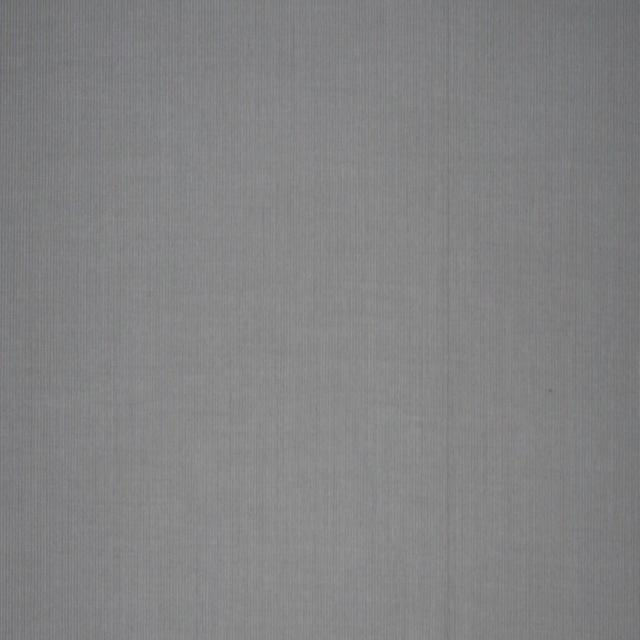dirty: (549, 389, 552, 392)
